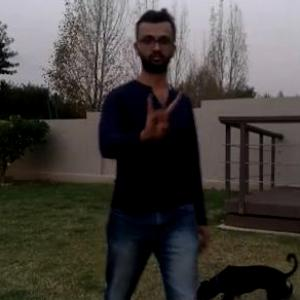takeoff-hand: (139, 79, 188, 142)
